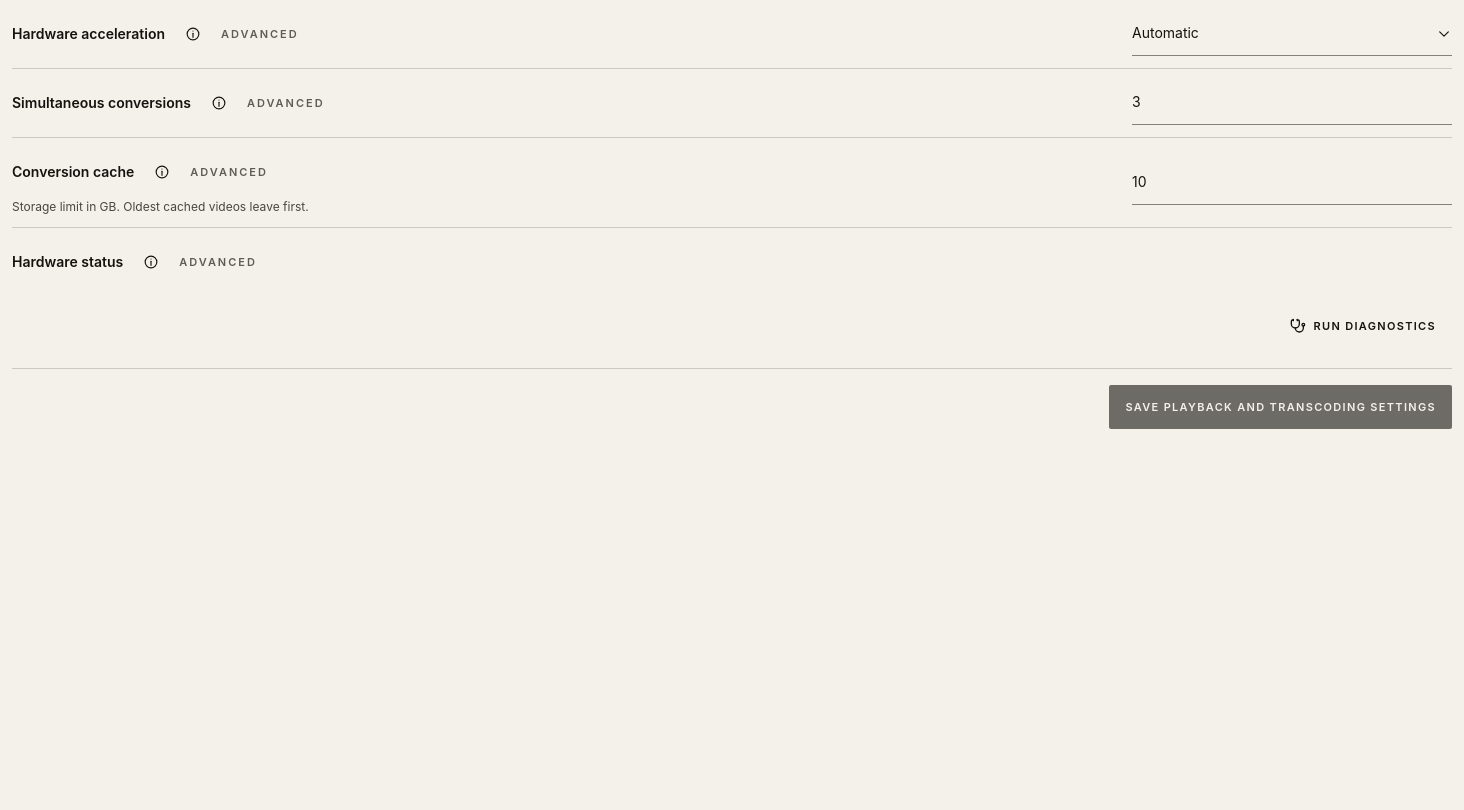
Test: Media server and Playback & transcoding sections › explains the conversion limit in ⓘ and runs diagnostics
This screenshot has width=1464, height=810.
Click the button "Run diagnostics" at coordinates (1363, 326), box [1274,304,1452,348]
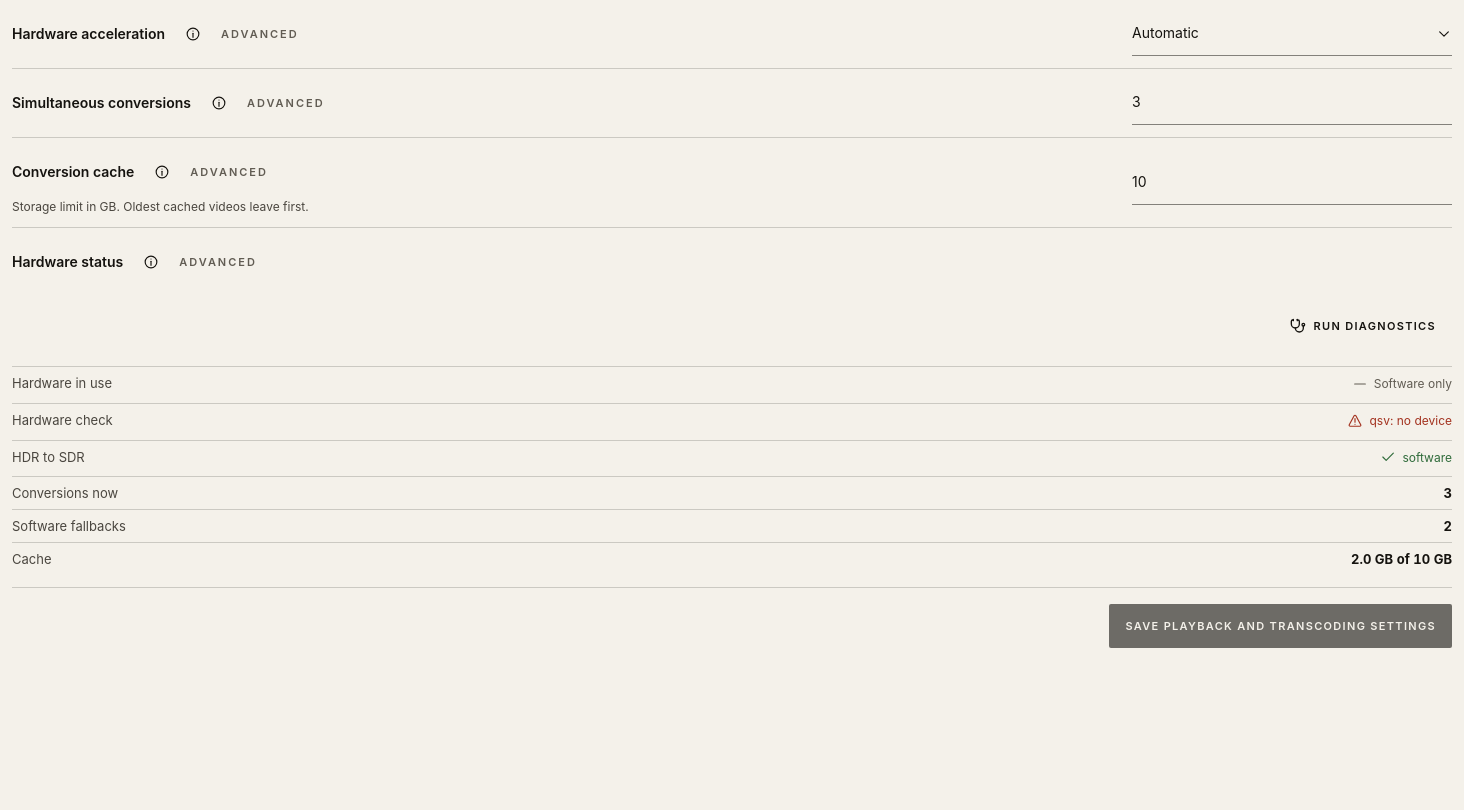
Expected: the list named "Diagnostics" shows "Software only", [1374,376,1452,391]
Expected: the list named "Diagnostics" shows "qsv: no device", [1370,413,1452,428]
Expected: the list named "Diagnostics" shows "2.0 GB of 10 GB", [12,366,1452,576]
